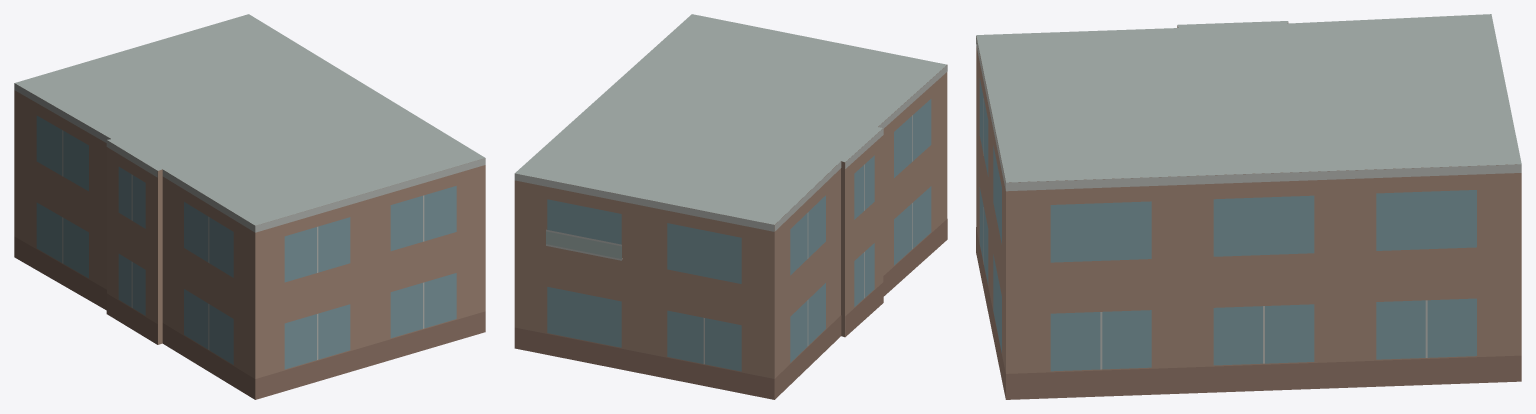
Rendered from survey-upis-32949567.glb.
3 renders of one model, left to right at view 1: azimuth 30°, elevation 25°; view 2: azimuth 150°, elevation 25°; view 3: azimuth 270°, elevation 25°, orthographic. The views are drawn at different scales.
Parts seen in each view (by area): view 1: survey-upis-32949567.tmp; view 2: survey-upis-32949567.tmp; view 3: survey-upis-32949567.tmp.
Part boxes in pixels (bbox=[...]): survey-upis-32949567.tmp: bbox=[14, 14, 485, 399]; survey-upis-32949567.tmp: bbox=[514, 14, 947, 399]; survey-upis-32949567.tmp: bbox=[976, 14, 1521, 399].
Size of the model in its own units: 10.16 by 6.1 by 13.89.
